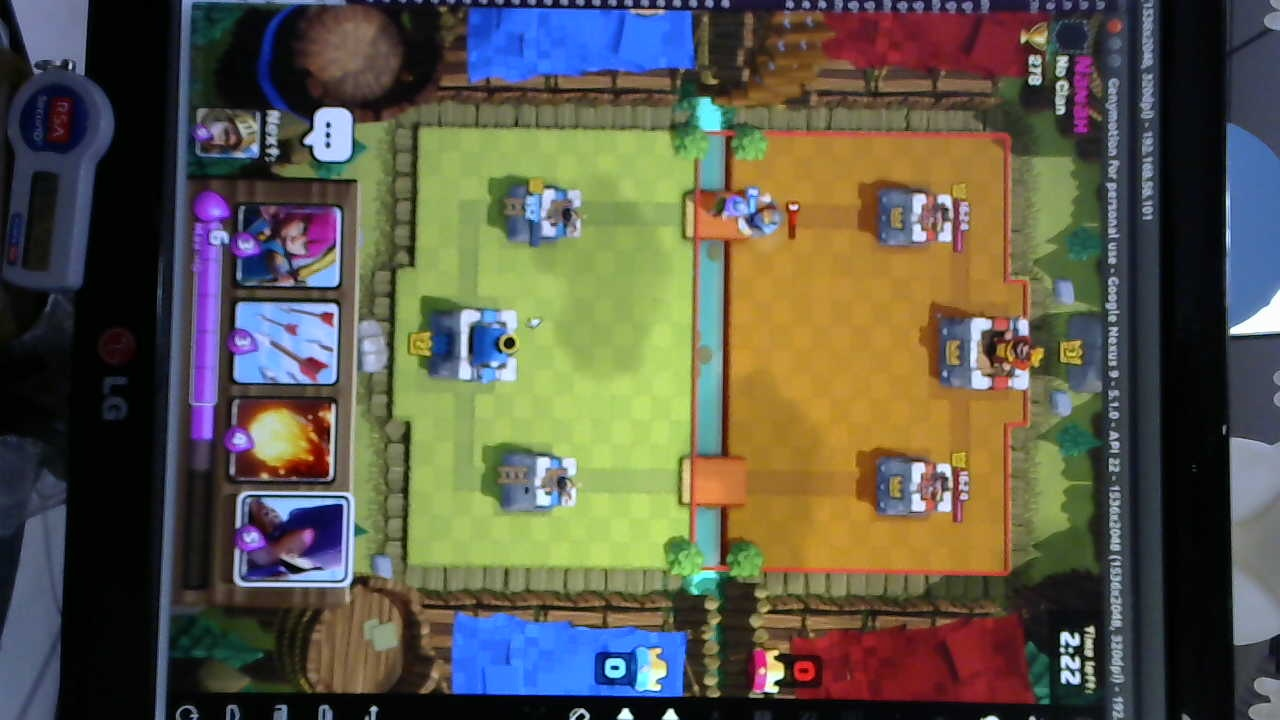arena: (495, 444, 580, 517), (509, 180, 586, 245)
earena: (876, 453, 956, 522), (873, 183, 953, 251)
eking: (937, 310, 1038, 393)
king: (432, 301, 528, 387)
knight: (740, 196, 785, 240)
musketeer: (705, 191, 752, 220)
